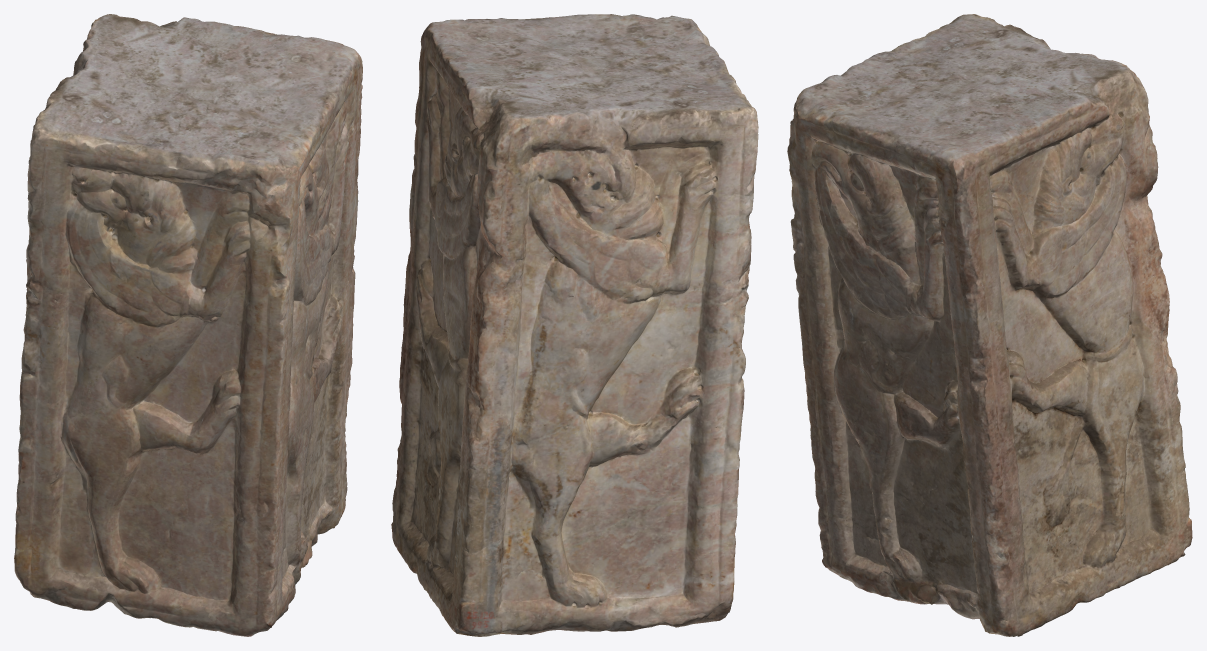
File: block_470953.glb
The picture shows the model from 3 angles, left to right: view 1: azimuth 30°, elevation 25°; view 2: azimuth 150°, elevation 25°; view 3: azimuth 270°, elevation 25°; orthographic projection. The views are drawn at different scales.
Parts seen in each view (by area): view 1: ADVIMG_25_120_995_PierWithLionsGriffins_DEC6M_MASTER_n3d; view 2: ADVIMG_25_120_995_PierWithLionsGriffins_DEC6M_MASTER_n3d; view 3: ADVIMG_25_120_995_PierWithLionsGriffins_DEC6M_MASTER_n3d.
Boxes of the visible parts, <box> form: ADVIMG_25_120_995_PierWithLionsGriffins_DEC6M_MASTER_n3d: <box>14,14,362,636</box>; ADVIMG_25_120_995_PierWithLionsGriffins_DEC6M_MASTER_n3d: <box>391,14,758,636</box>; ADVIMG_25_120_995_PierWithLionsGriffins_DEC6M_MASTER_n3d: <box>787,14,1192,636</box>.
Bounding box in the file's own units: 0.305 × 0.4492 × 0.3265.
Materials: 1 (1 with a texture image).
